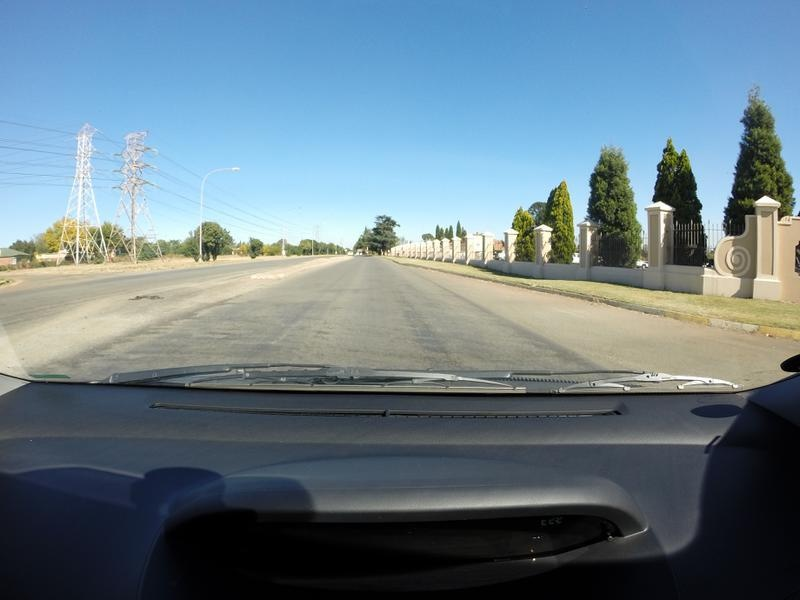pothole: (125, 294, 161, 301)
